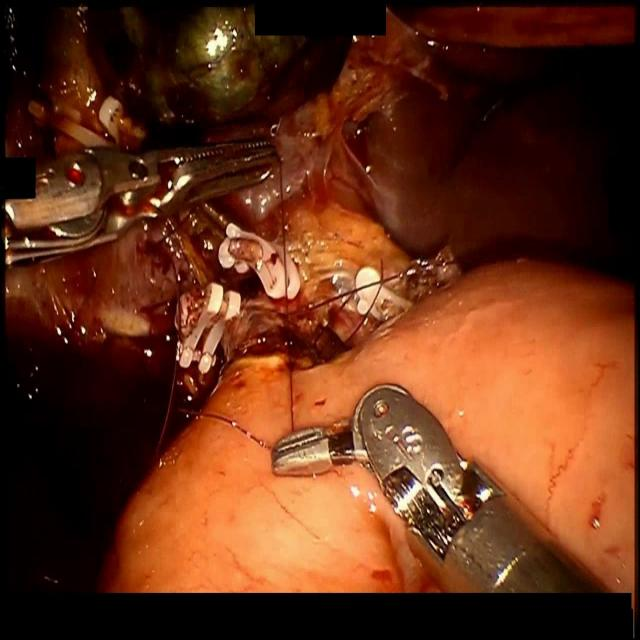surgical-area: (1, 3, 636, 598)
surgical-tool: (270, 380, 618, 596), (2, 140, 280, 269)
